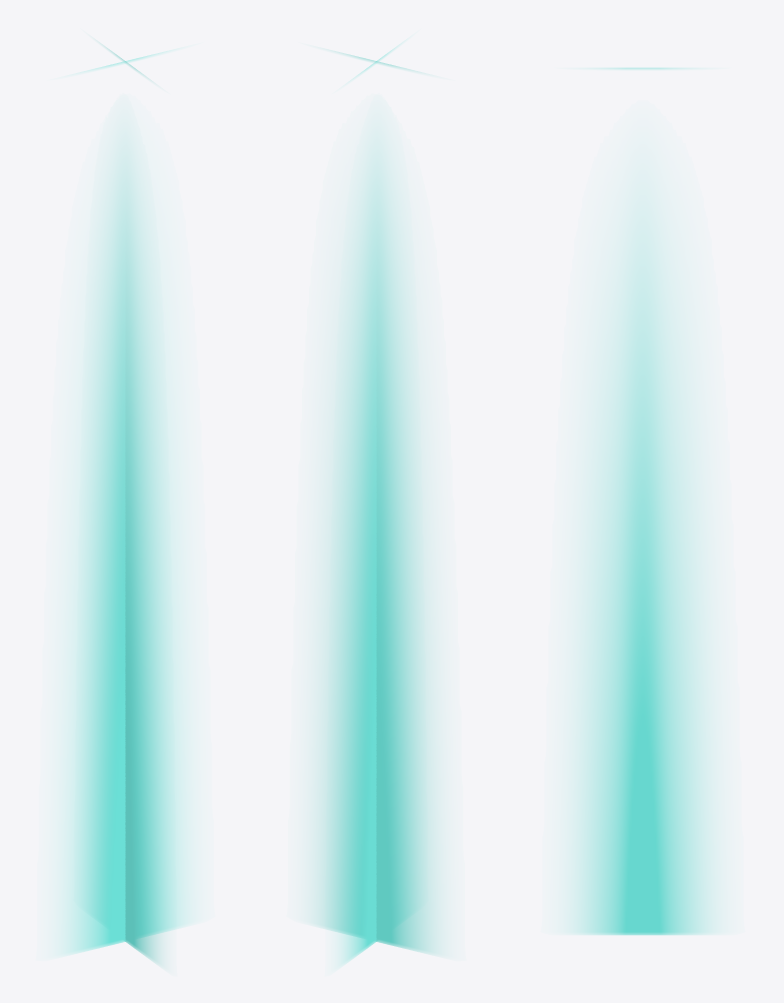
File: mwm_diskbeam_t.glb
3 renders of one model, left to right at view 1: azimuth 30°, elevation 25°; view 2: azimuth 150°, elevation 25°; view 3: azimuth 270°, elevation 25°, orthographic.
Parts seen in each view (by area): view 1: diskbeam_t; view 2: diskbeam_t; view 3: diskbeam_t.
Boxes of the visible parts, <box> form: diskbeam_t: <box>60,43,190,965</box>; diskbeam_t: <box>311,43,441,965</box>; diskbeam_t: <box>569,67,716,935</box>.
Bounding box in the file's own units: 0.9 × 3.4 × 0.9.
1 material, 1 textured.
